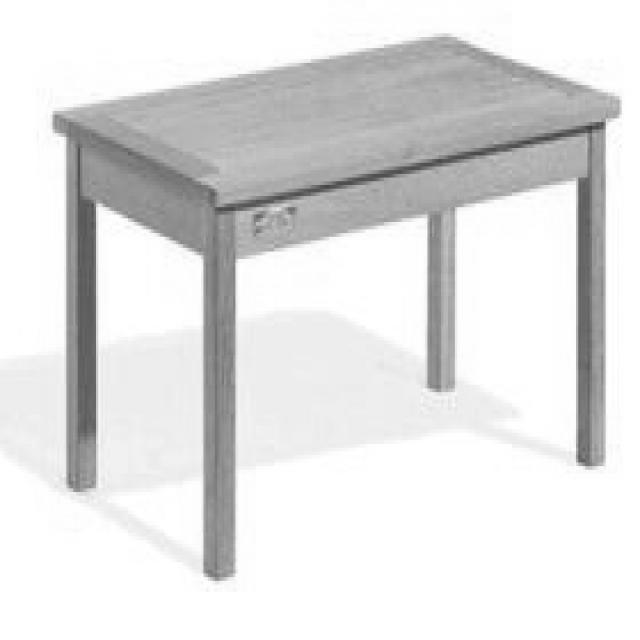table: (53, 27, 621, 584)
